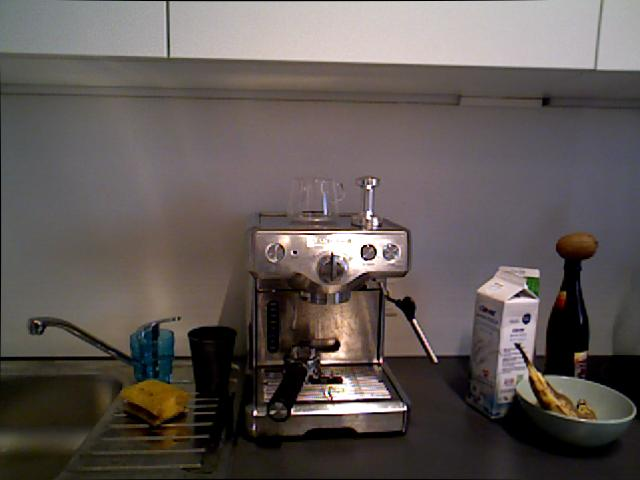bench: (467, 269, 540, 422), (495, 263, 544, 413), (543, 255, 598, 379)
bird: (514, 374, 636, 447)
couch: (0, 371, 124, 479)
handbag: (187, 325, 237, 397), (284, 175, 350, 229), (129, 327, 174, 383)
motorcycle: (515, 343, 600, 427)
